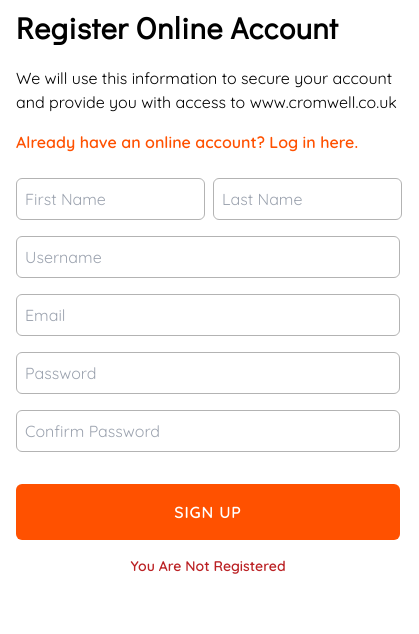
SignUpForm › should show an error message when an invalid email is entered
This screenshot has width=419, height=634.
Step 1. Type "invalidemail" into the field with placeholder "Email" → (208, 315), box [16,294,400,336]
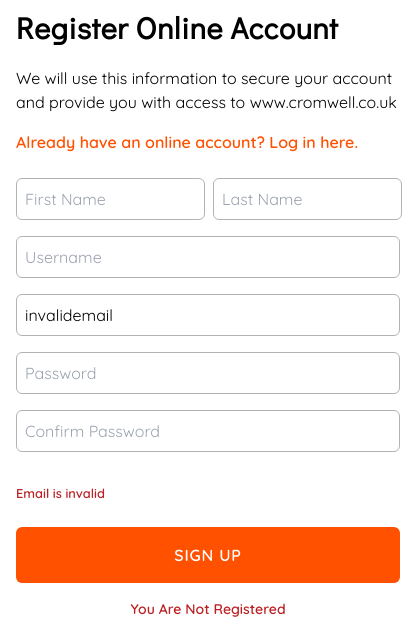
Expected: the text "Email is invalid" is shown, [16,485,105,501]
